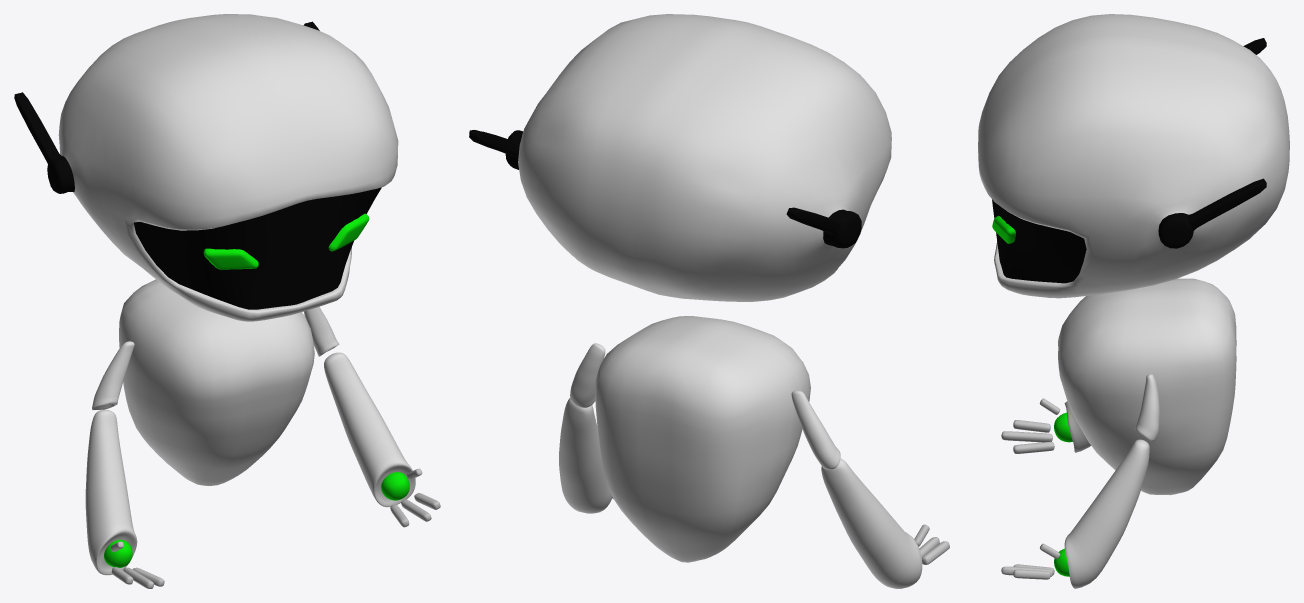
File: Melapelas.fbx
The picture shows the model from 3 angles, left to right: view 1: azimuth 30°, elevation 25°; view 2: azimuth 150°, elevation 25°; view 3: azimuth 270°, elevation 25°; orthographic projection. The views are drawn at different scales.
Parts seen in each view (by area): view 1: polySurface55, pCube3, polySurface2, polySurface51, polySurface52, polySurface53, pCube2, polySurface26, polySurface24, polySurface33, polySurface31; view 2: polySurface55, pCube3, polySurface51, polySurface52, polySurface53, polySurface26, polySurface24, polySurface56; view 3: polySurface55, pCube3, polySurface52, polySurface2, polySurface56, polySurface24, polySurface51, polySurface37.
Boxes of the visible parts, x1=… form: polySurface55: x1=58, y1=14, x2=398, y2=321; pCube3: x1=119, y1=279, x2=314, y2=485; polySurface2: x1=134, y1=187, x2=381, y2=309; polySurface51: x1=85, y1=409, x2=137, y2=575; polySurface52: x1=324, y1=352, x2=415, y2=507; polySurface53: x1=14, y1=92, x2=74, y2=193; pCube2: x1=203, y1=213, x2=369, y2=269; polySurface26: x1=92, y1=341, x2=134, y2=410; polySurface24: x1=304, y1=306, x2=339, y2=356; polySurface33: x1=381, y1=472, x2=409, y2=500; polySurface31: x1=104, y1=539, x2=132, y2=567; polySurface55: x1=518, y1=14, x2=891, y2=301; pCube3: x1=595, y1=316, x2=810, y2=562; polySurface51: x1=821, y1=458, x2=922, y2=588; polySurface52: x1=559, y1=398, x2=612, y2=513; polySurface53: x1=786, y1=207, x2=861, y2=248; polySurface26: x1=791, y1=390, x2=840, y2=469; polySurface24: x1=570, y1=343, x2=605, y2=407; polySurface56: x1=469, y1=130, x2=522, y2=169; polySurface55: x1=978, y1=14, x2=1289, y2=298; pCube3: x1=1058, y1=278, x2=1236, y2=495; polySurface52: x1=1064, y1=439, x2=1149, y2=588; polySurface2: x1=992, y1=199, x2=1086, y2=283; polySurface56: x1=1158, y1=178, x2=1266, y2=248; polySurface24: x1=1135, y1=374, x2=1159, y2=441; polySurface51: x1=1064, y1=401, x2=1091, y2=452; polySurface37: x1=1001, y1=431, x2=1052, y2=442.
Bounding box in the file's own units: 1.71 × 2.46 × 1.45.
